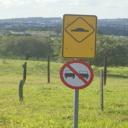NoUltrapassar: (60, 60, 94, 90)
